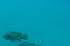smallfish: (1, 29, 30, 45)
